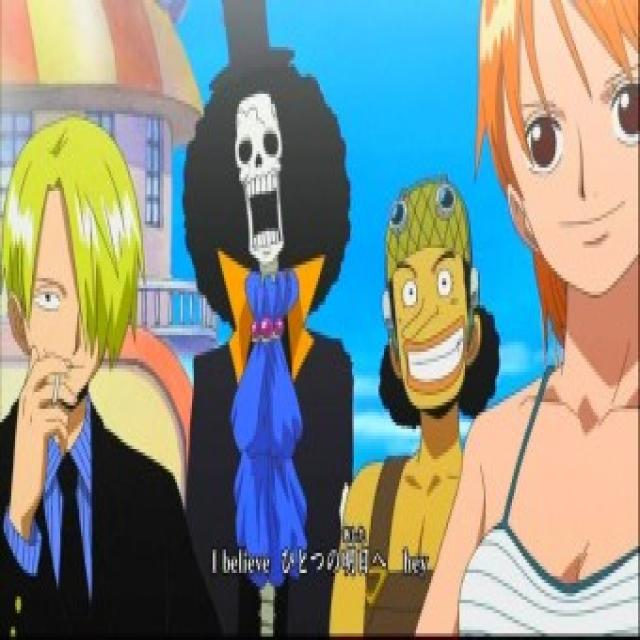Blook: (183, 0, 346, 302)
Nami: (480, 0, 640, 315)
Sangdi: (0, 113, 152, 419)
Usopp: (372, 166, 488, 442)
